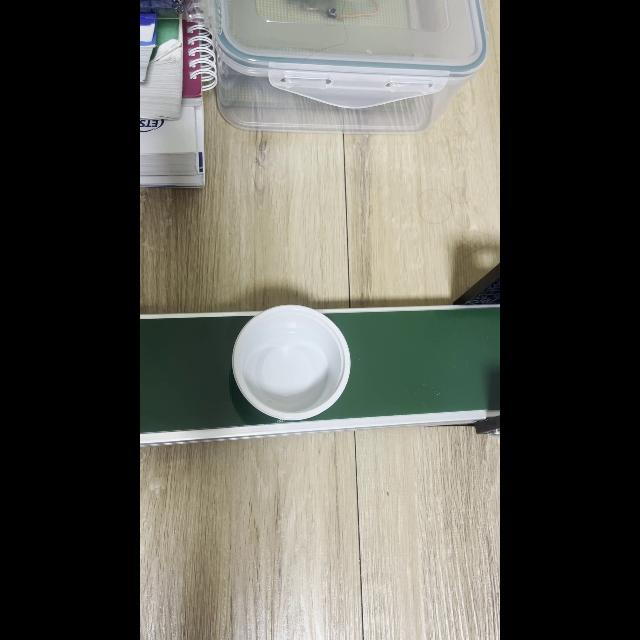clean: (238, 312, 336, 418)
